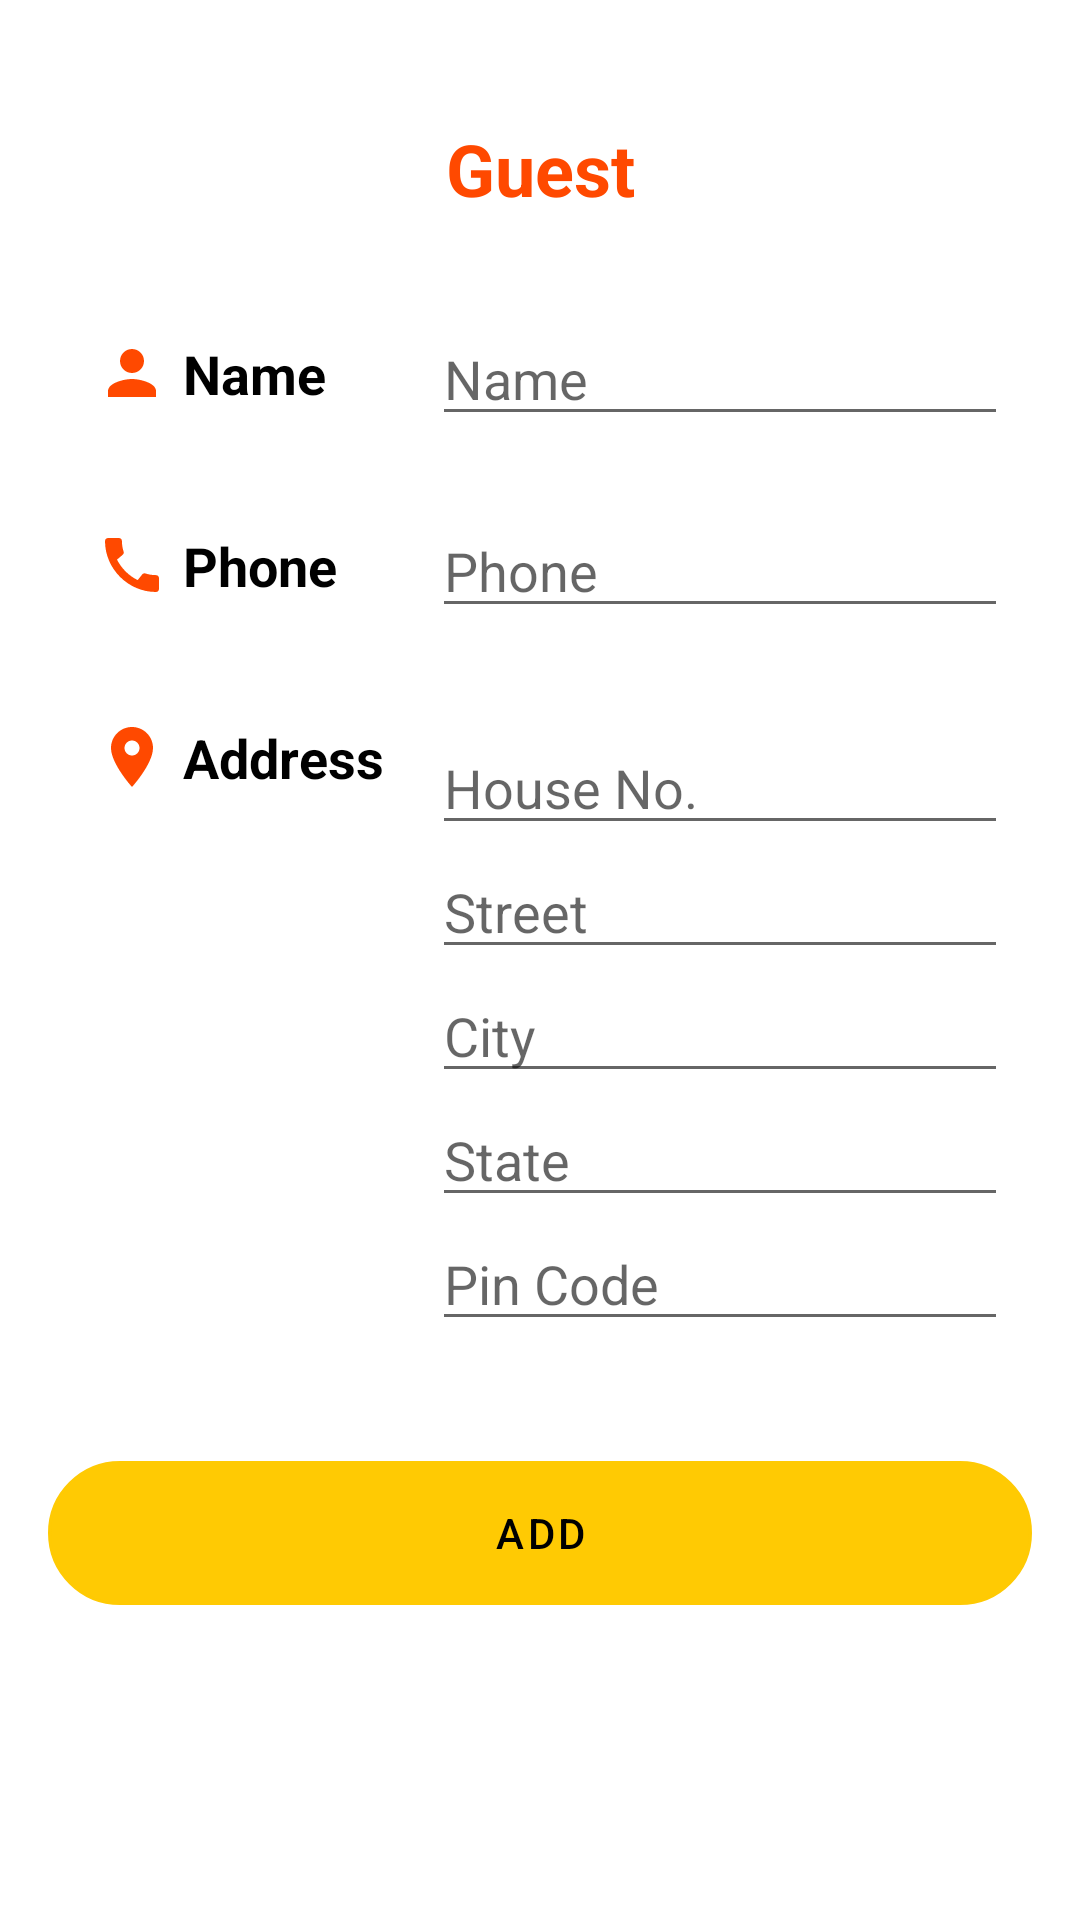

Where to tap for icons on this 1080 × 1920 app screen, as (x=x, y=y):
person: (x=132, y=373)
